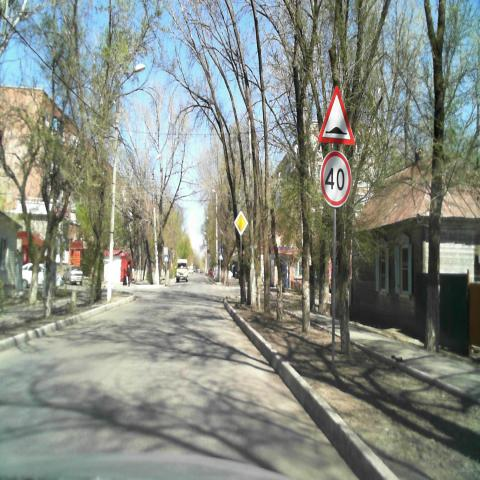1_17: (316, 84, 357, 148)
3_24: (320, 150, 352, 209)
